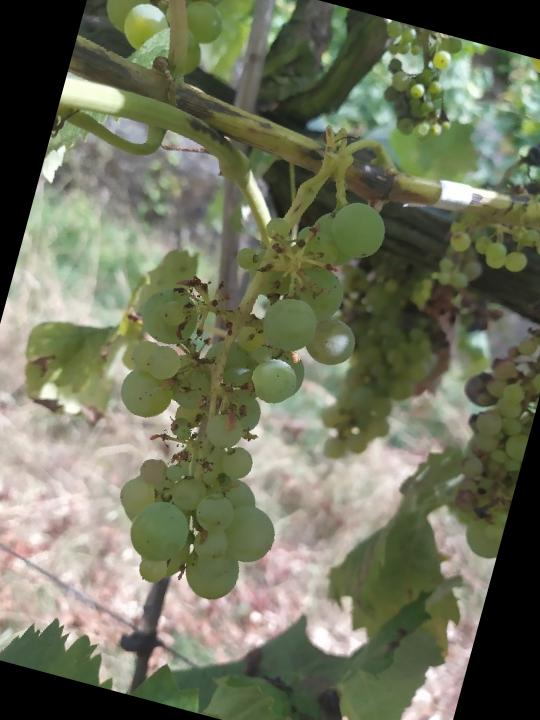grape: (62, 150, 397, 623)
